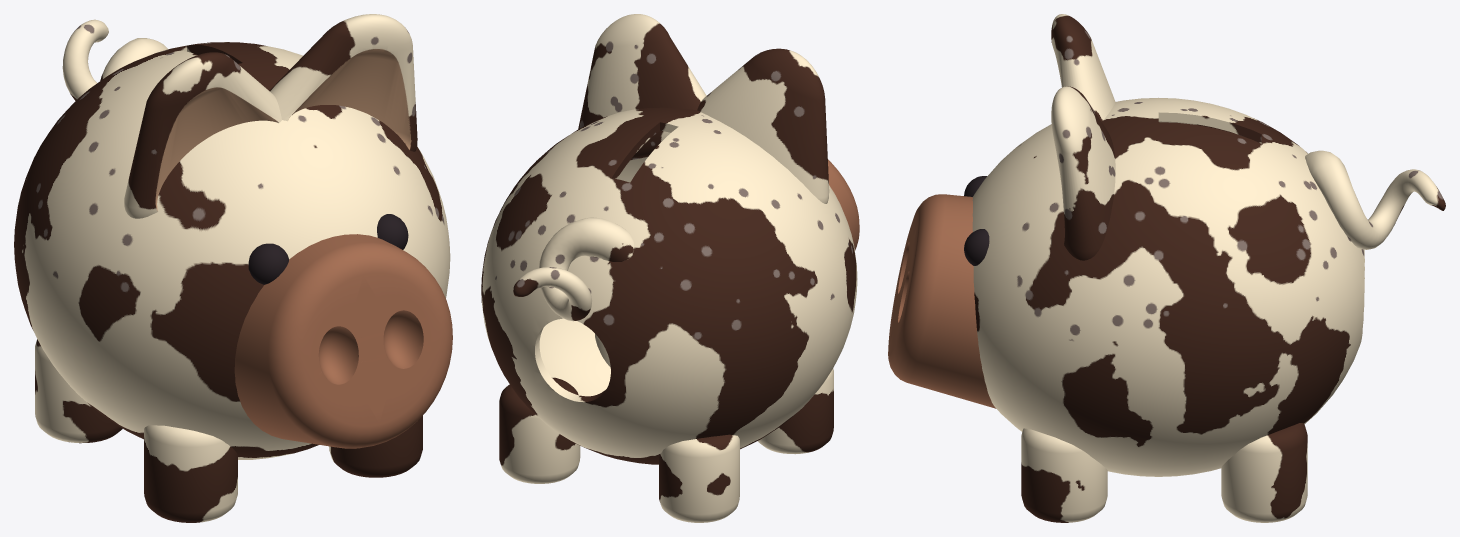
The model's file is cookiescream-complete.fbx.
3 views of the same model, side by side, from view 1: azimuth 30°, elevation 25°; view 2: azimuth 150°, elevation 25°; view 3: azimuth 270°, elevation 25° (orthographic). The views are drawn at different scales.
Visible parts, largest first — view 1: Body, Snout, Ears, Legs, Tail, Eyes; view 2: Body, Ears, Legs, Tail, Snout; view 3: Body, Snout, Legs, Ears, Tail, Eyes.
Part boxes in pixels (<box>): Body: <box>14,42,450,459</box>; Snout: <box>234,234,452,448</box>; Ears: <box>124,14,417,218</box>; Legs: <box>35,339,422,522</box>; Tail: <box>62,19,167,100</box>; Eyes: <box>248,214,408,284</box>; Body: <box>481,107,857,464</box>; Ears: <box>578,14,829,203</box>; Legs: <box>499,334,833,522</box>; Tail: <box>513,217,634,321</box>; Snout: <box>828,159,859,250</box>; Body: <box>972,97,1364,476</box>; Snout: <box>888,194,996,408</box>; Legs: <box>1021,423,1307,522</box>; Ears: <box>1051,14,1115,260</box>; Tail: <box>1305,150,1445,249</box>; Eyes: <box>964,176,989,265</box>.
Bounding box in the file's own units: 1200 × 1397 × 1708.
3 materials, 2 textured.
